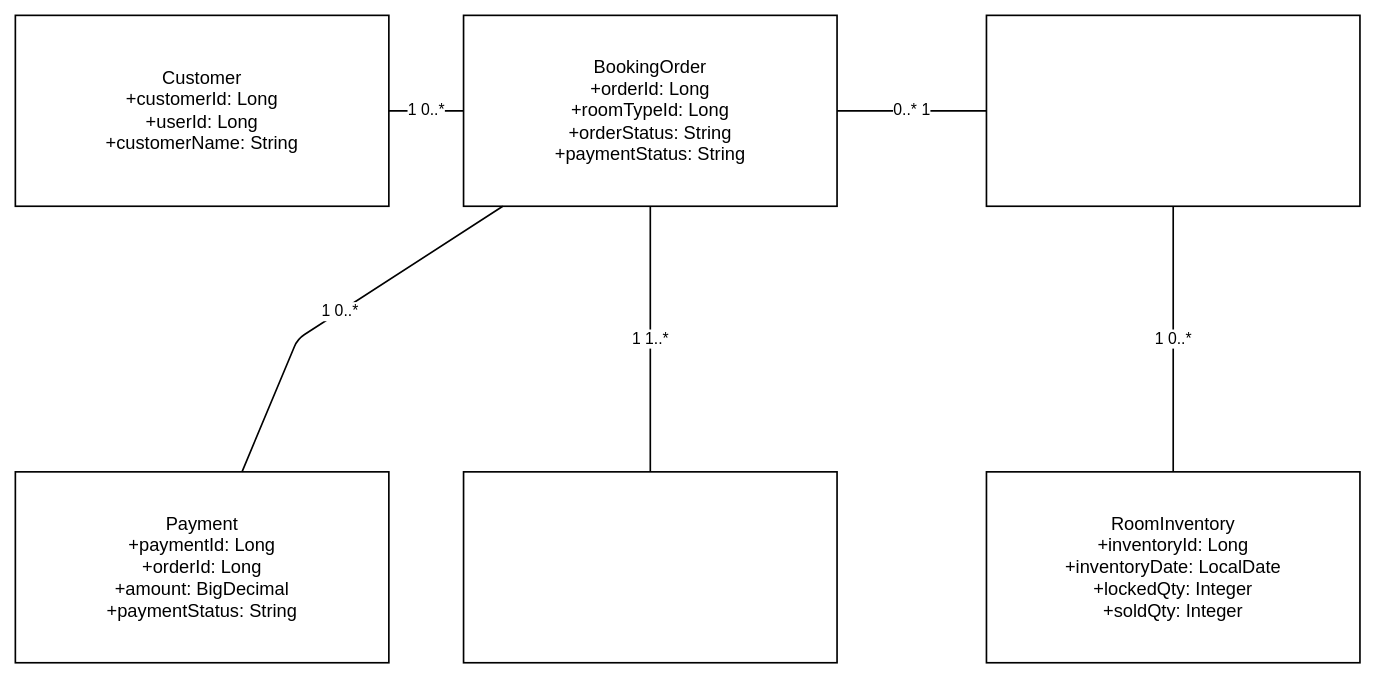
This 1374x677 diagram has some shape labels left out. The centre of each missing label's shape, as x and y in pixels:
"BookingGuest +guestId: Long +orderId: Long +guestName: String" goes at point (649, 567).
"RoomType +roomTypeId: Long +typeName: String +basePrice: BigDecimal" goes at point (1172, 110).
